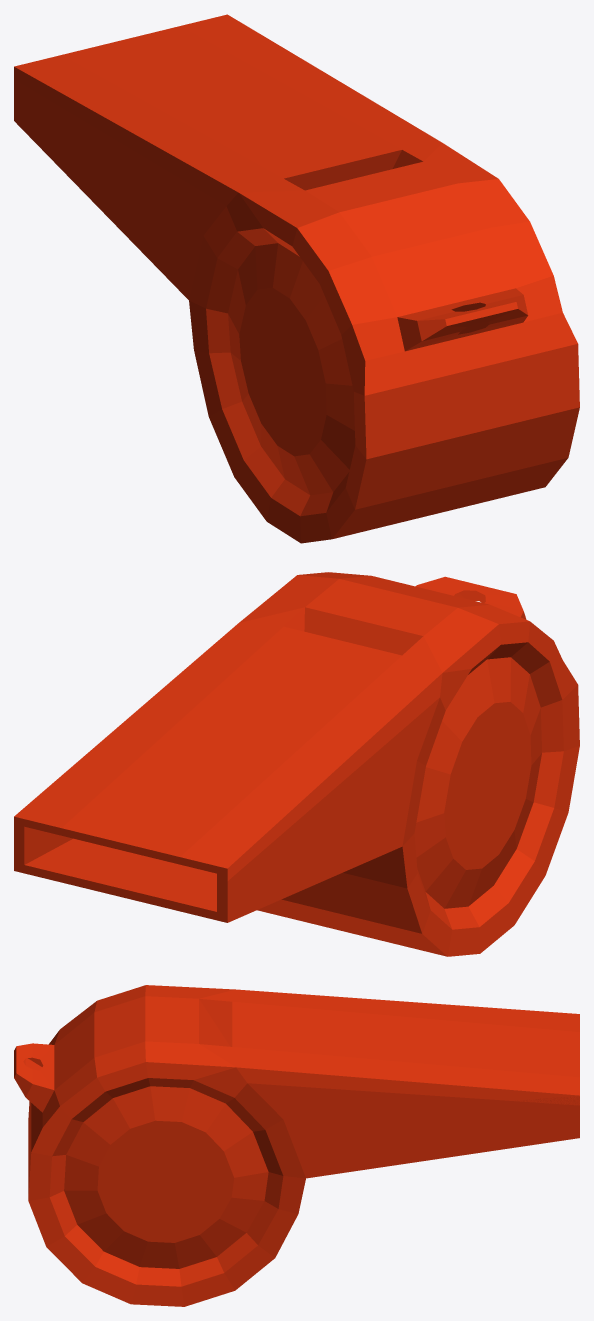
The model's file is Whistle.fbx.
3 views of the same model, one above another, from view 1: azimuth 30°, elevation 25°; view 2: azimuth 150°, elevation 25°; view 3: azimuth 270°, elevation 25° (orthographic). The views are drawn at different scales.
Parts seen in each view (by area): view 1: Circle; view 2: Circle; view 3: Circle.
Boxes of the visible parts, x1=… form: Circle: x1=14, y1=14, x2=579, y2=543; Circle: x1=14, y1=572, x2=579, y2=956; Circle: x1=14, y1=985, x2=579, y2=1306.
Bounding box in the file's own units: 140 × 198 × 410.
